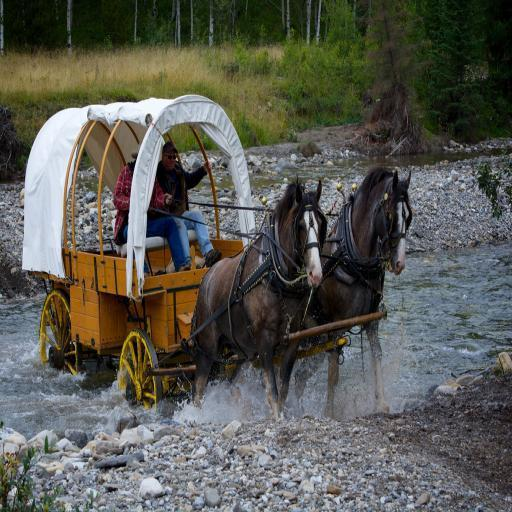horse: (190, 172, 330, 418), (298, 166, 412, 418)
